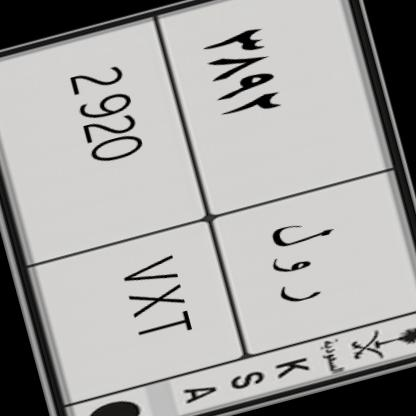english: (0, 7, 258, 409)
